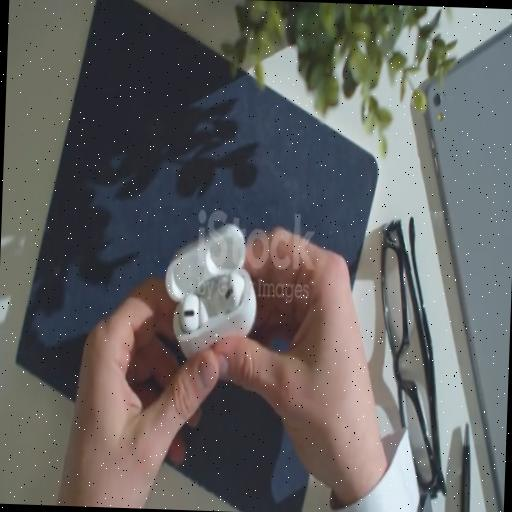earphone: (150, 228, 271, 372)
